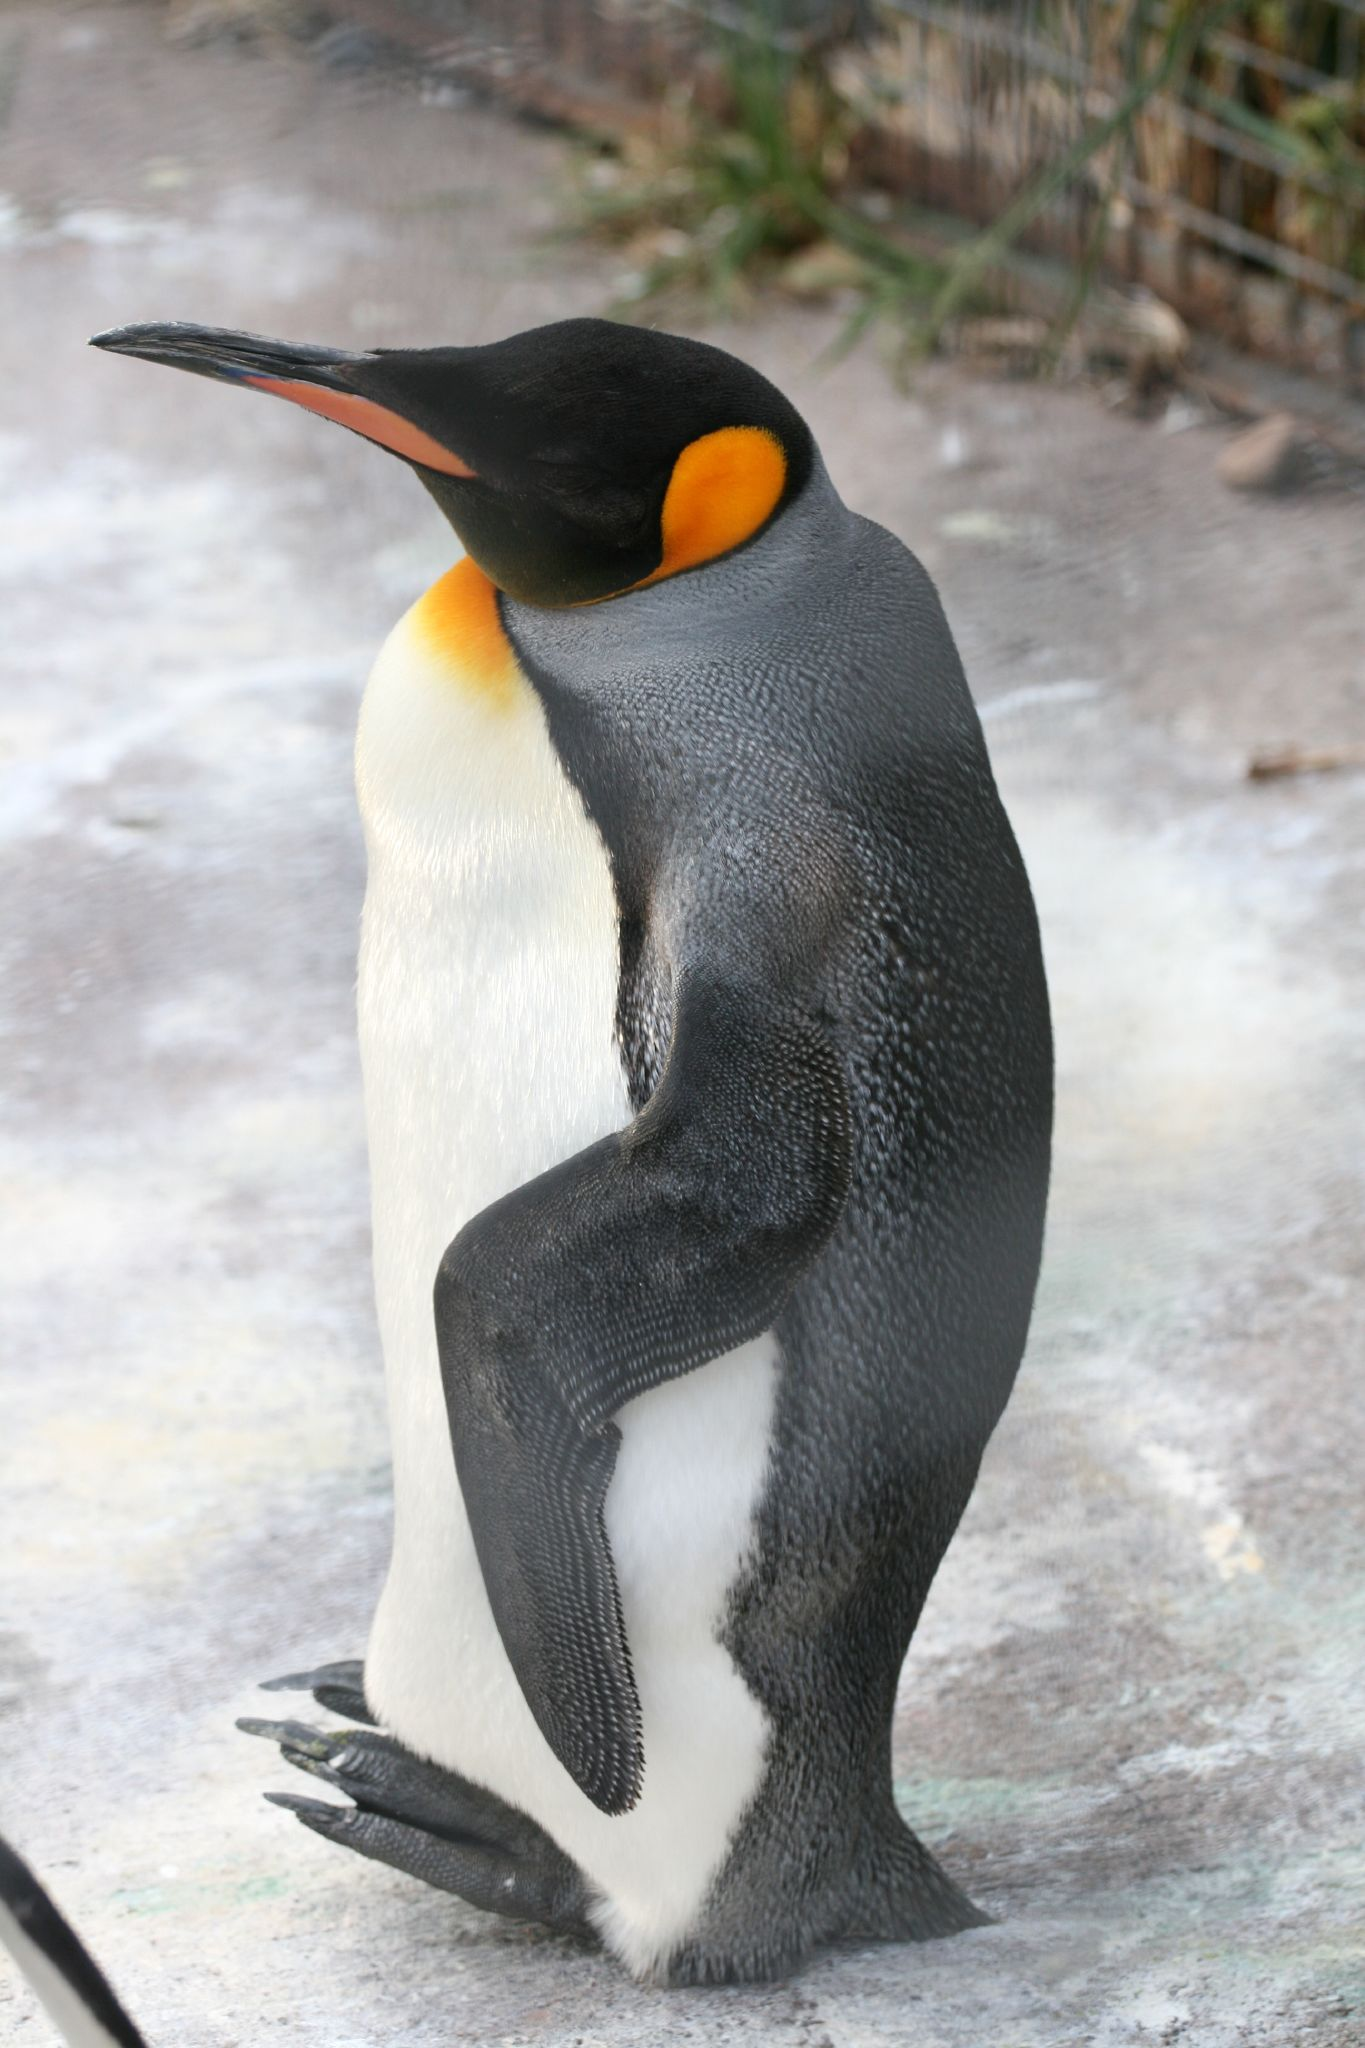penguin: (85, 311, 1024, 1958)
